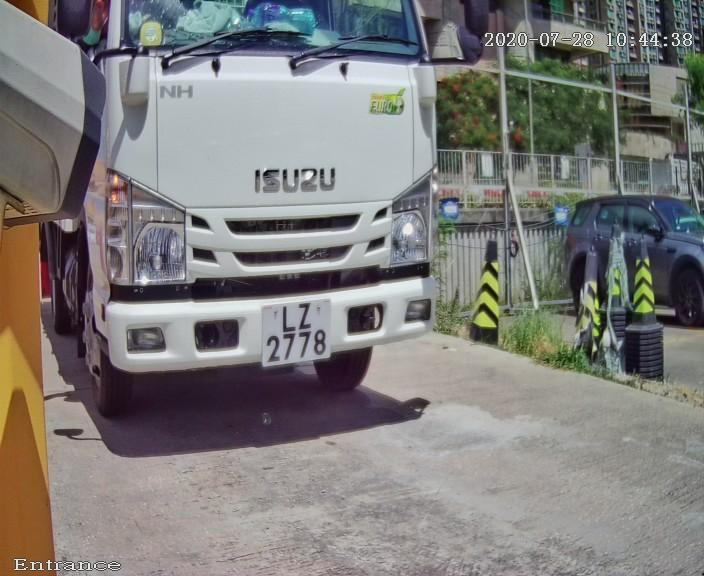vehicle_m: (10, 19, 513, 461)
